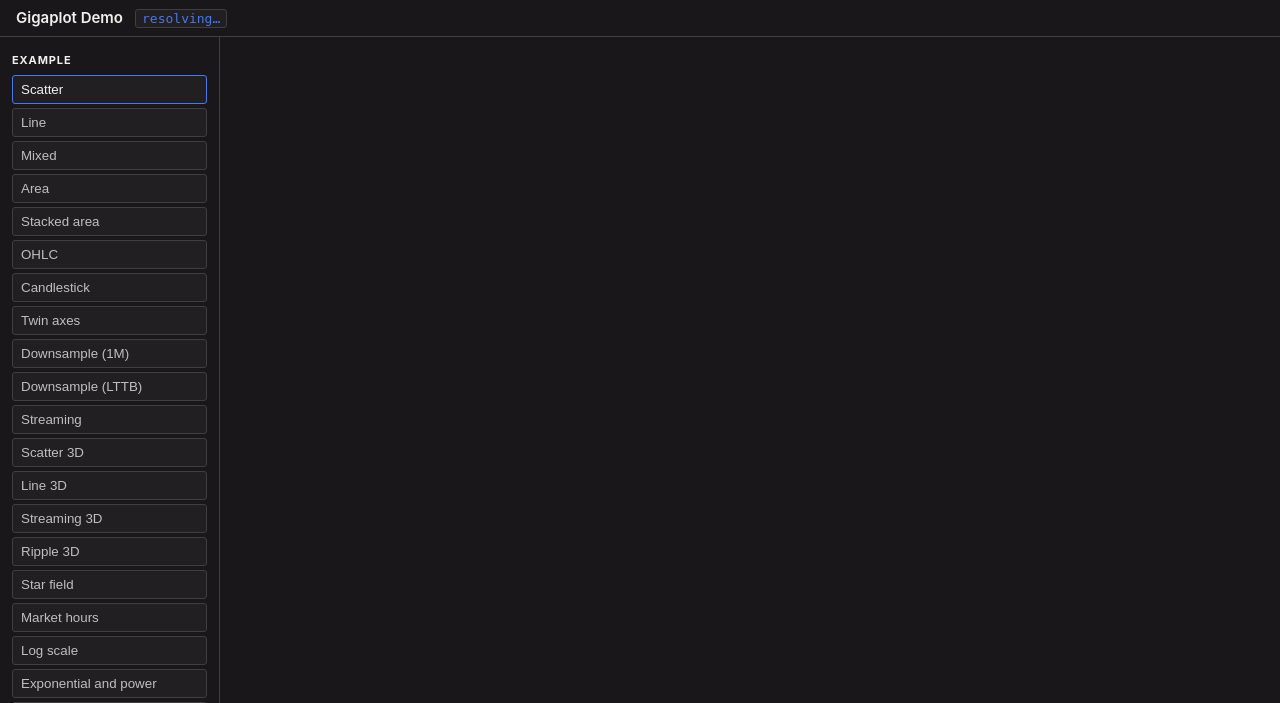
Test: draws the line-3d example as a 3D plot
The width and height of the screenshot is (1280, 703).
Click the button "Line 3D": (110, 486) [12,471,207,500]
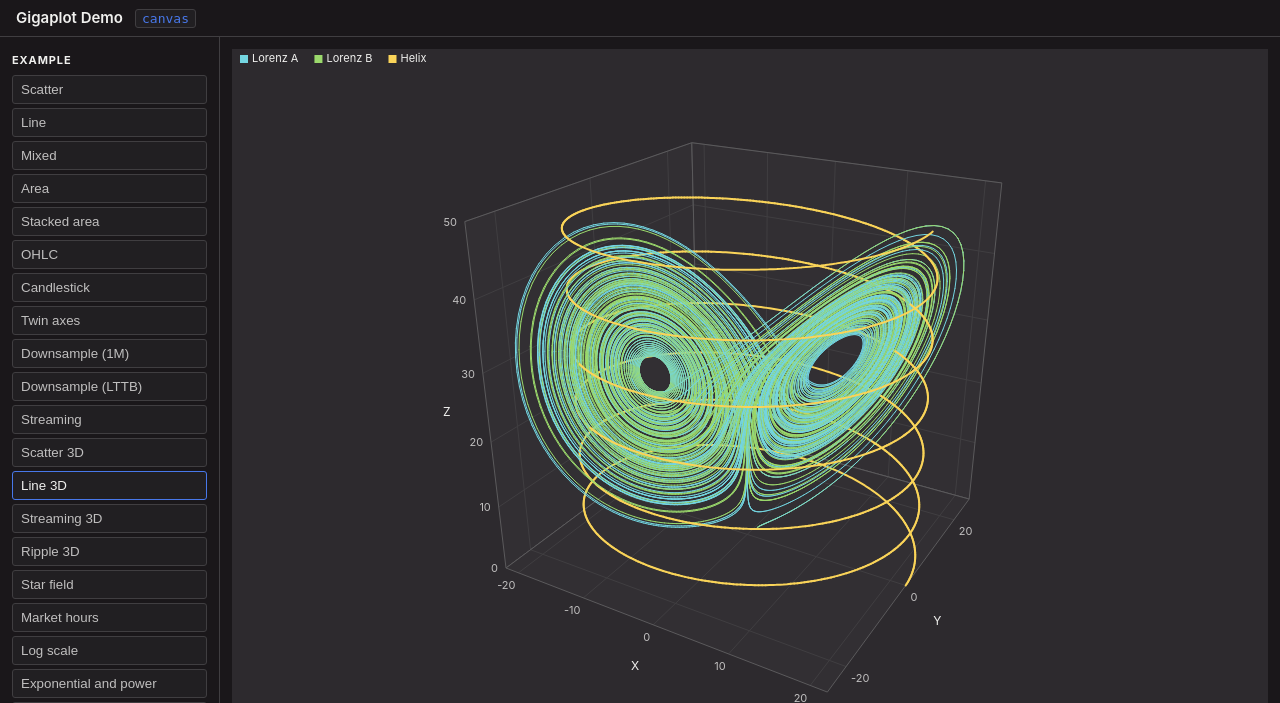
expect the text with test id "active-renderer" reads "canvas": met, box [142,11,189,26]
